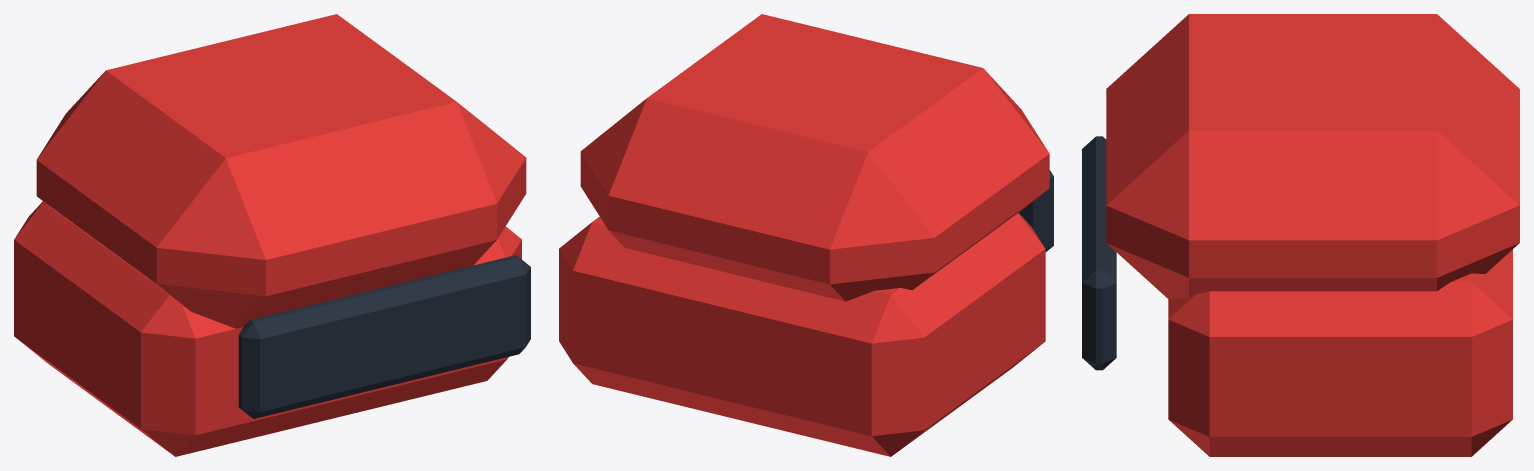
Rendered from acc_helmet.glb.
The picture shows the model from 3 angles, left to right: view 1: azimuth 30°, elevation 25°; view 2: azimuth 150°, elevation 25°; view 3: azimuth 270°, elevation 25°; orthographic projection. The views are drawn at different scales.
Parts seen in each view (by area): view 1: acc_helmet; view 2: acc_helmet; view 3: acc_helmet.
Boxes of the visible parts, x1,y1,x2,y2 form: acc_helmet: [14, 14, 530, 456]; acc_helmet: [559, 14, 1053, 456]; acc_helmet: [1082, 14, 1519, 456].
Size of the model in its own units: 0.66 by 0.49 by 0.635.
